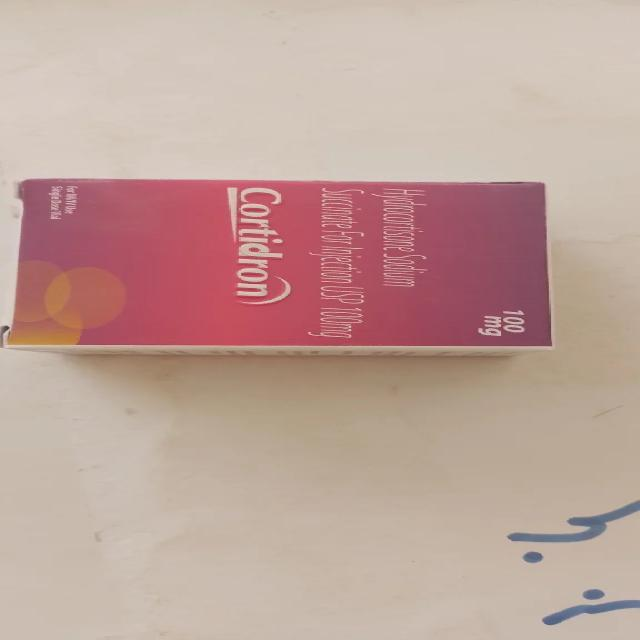drug-name: (236, 184, 284, 298)
